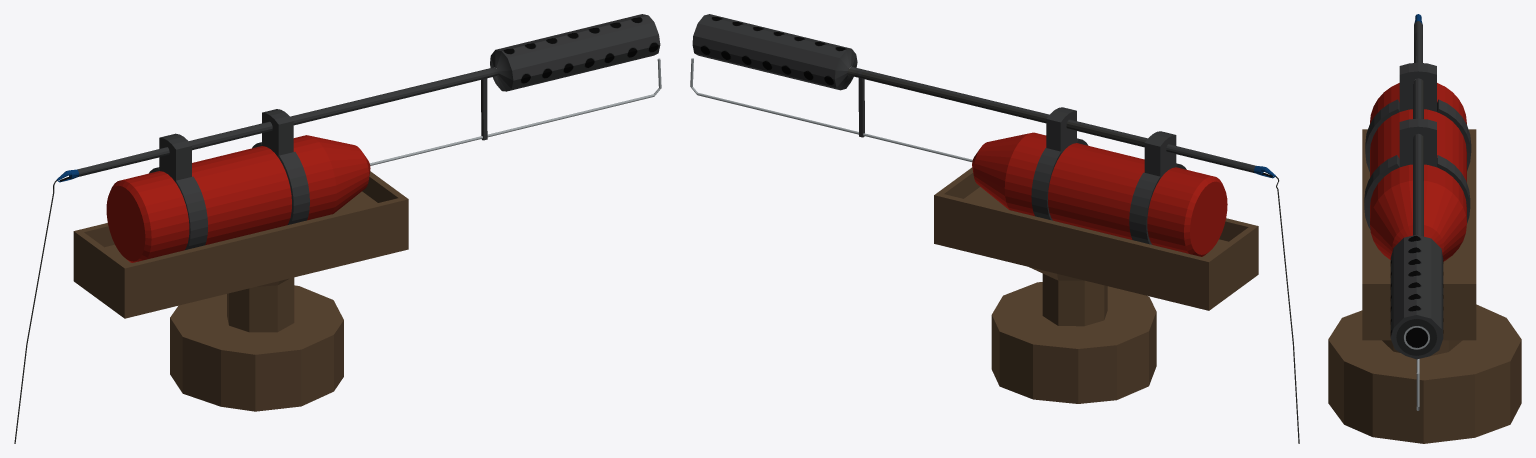
File: flamethrowerAse.fbx
3 renders of one model, left to right at view 1: azimuth 30°, elevation 25°; view 2: azimuth 150°, elevation 25°; view 3: azimuth 270°, elevation 25°, orthographic. The views are drawn at different scales.
Parts seen in each view (by area): view 1: flamethrower; view 2: flamethrower; view 3: flamethrower.
Boxes of the visible parts, x1=… form: flamethrower: x1=14, y1=14, x2=661, y2=443; flamethrower: x1=690, y1=14, x2=1299, y2=443; flamethrower: x1=1328, y1=14, x2=1521, y2=443.
Bounding box in the file's own units: 23.53 × 100 × 42.41.
